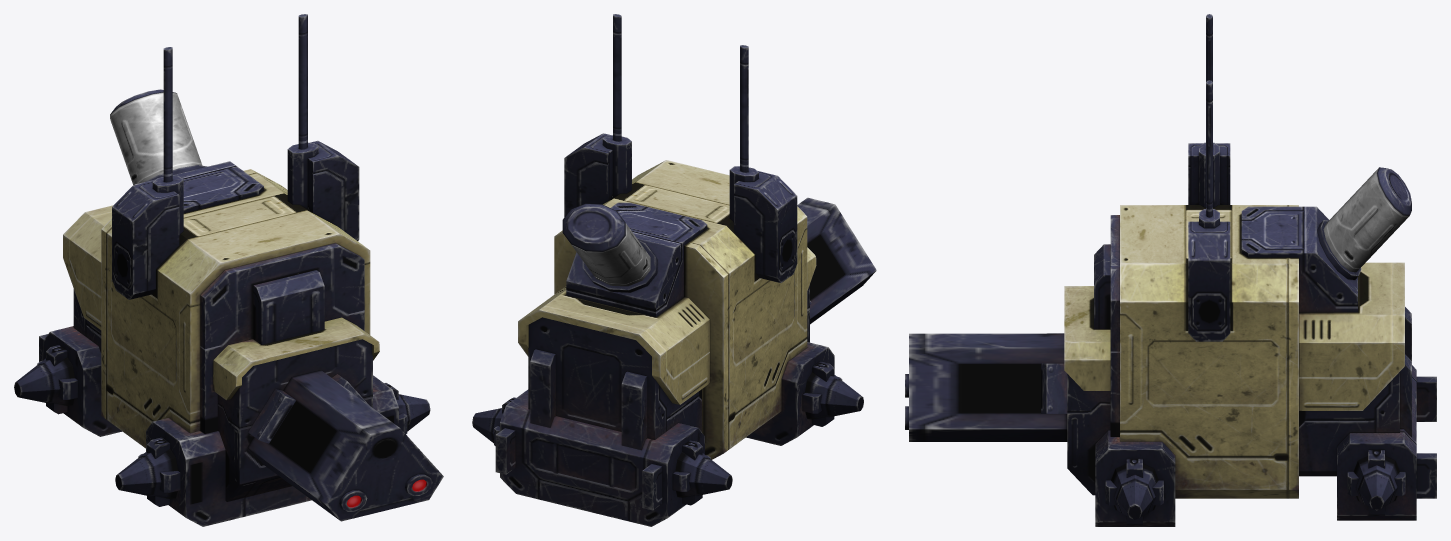
The model's file is dogmeshoverlayer.obj.
3 views of the same model, side by side, from view 1: azimuth 30°, elevation 25°; view 2: azimuth 150°, elevation 25°; view 3: azimuth 270°, elevation 25° (orthographic). The views are drawn at different scales.
Parts seen in each view (by area): view 1: dogbot_Mesh; view 2: dogbot_Mesh; view 3: dogbot_Mesh.
Boxes of the visible parts, bbox=[...] form: dogbot_Mesh: bbox=[14, 14, 443, 526]; dogbot_Mesh: bbox=[472, 14, 876, 526]; dogbot_Mesh: bbox=[905, 14, 1436, 526].
Bounding box in the file's own units: 1.77 × 2.38 × 2.63.
